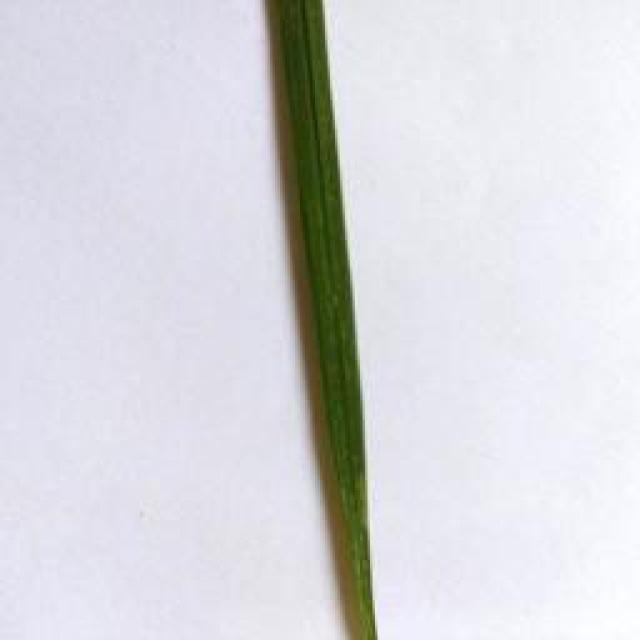Healthy-Plant: (271, 0, 387, 640)
